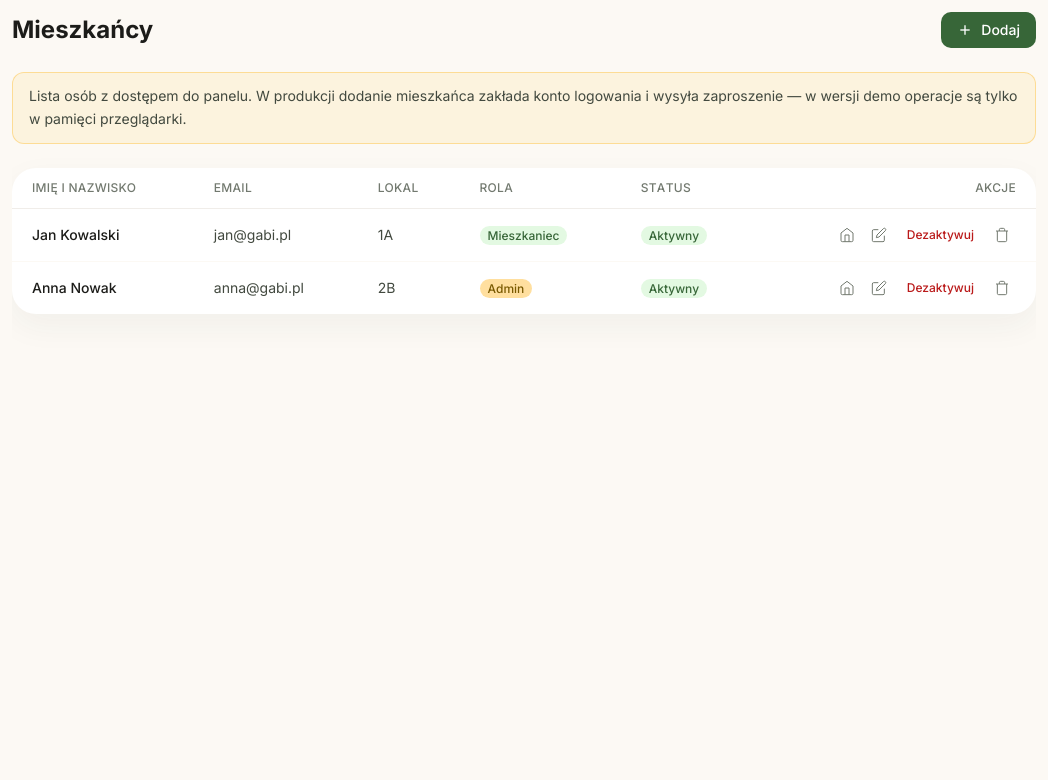
it: ResidentsPage › otwiera formularz po kliknięciu Dodaj
Expected: the text "Jan Kowalski" is shown, [12,208,194,261]
Click the button "Dodaj": (989, 30) [941,12,1036,48]
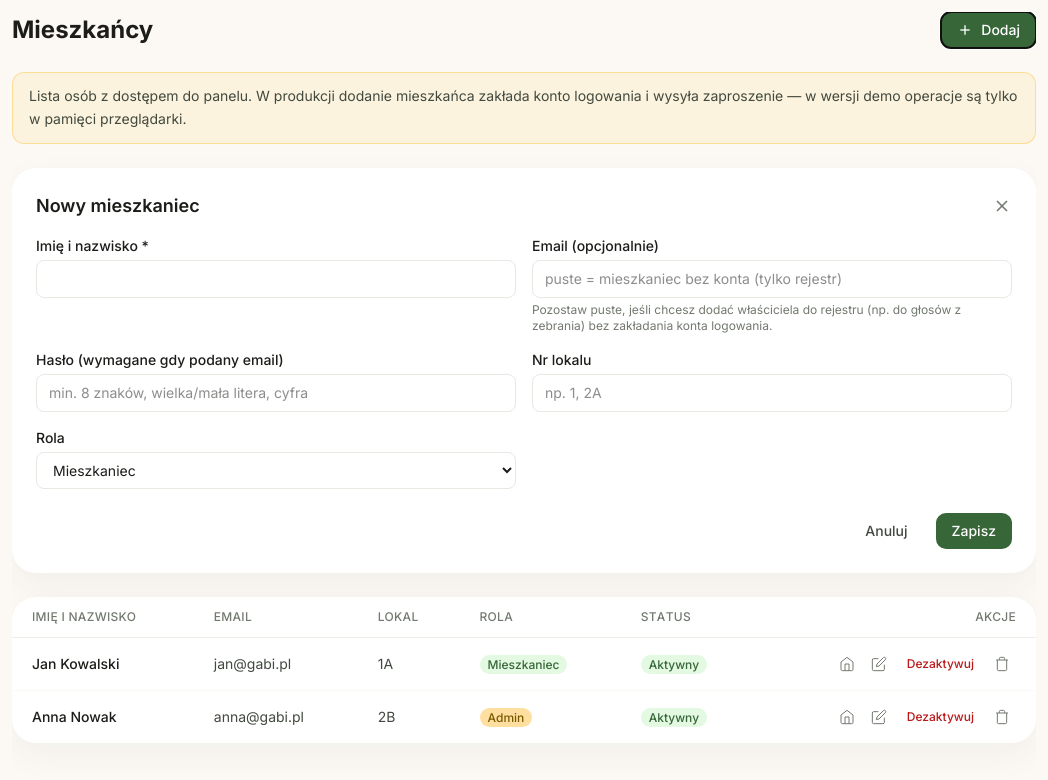
Expected: the heading "Nowy mieszkaniec" is shown, [36,192,200,220]
Expected: the text "Imię i nazwisko *" is shown, [36,236,149,254]
Expected: the text "Email (opcjonalnie)" is shown, [532,236,659,254]
